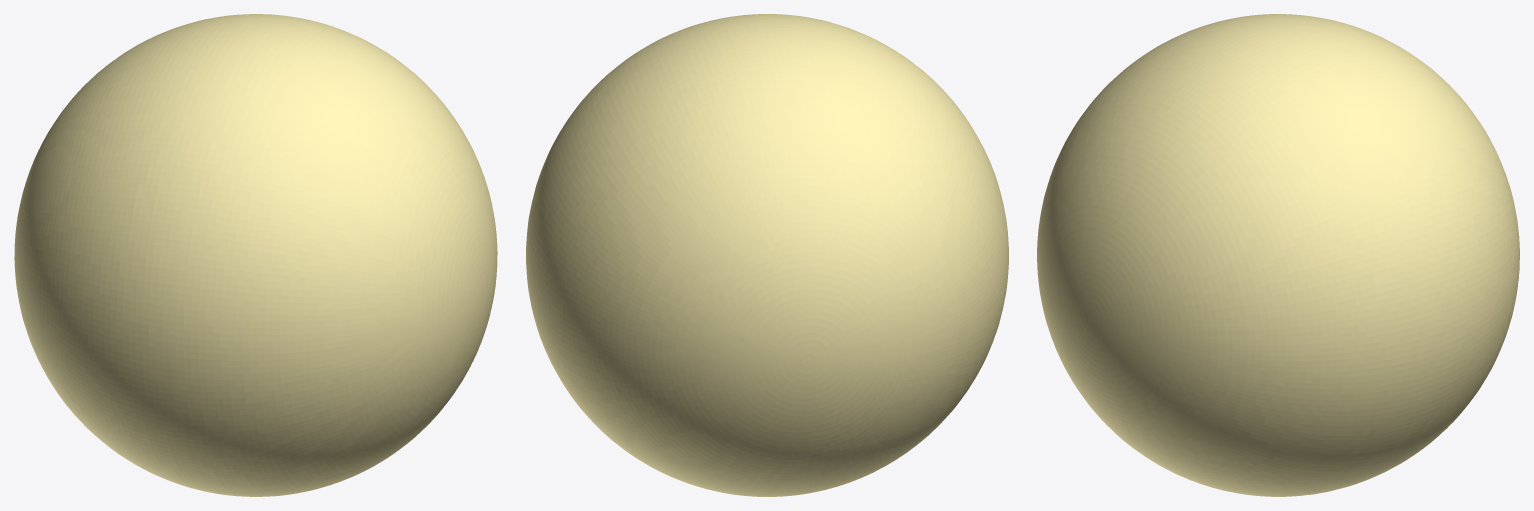
Rendered from DomesBulb.glb.
3 renders of one model, left to right at view 1: azimuth 30°, elevation 25°; view 2: azimuth 150°, elevation 25°; view 3: azimuth 270°, elevation 25°, orthographic.
Visible parts, largest first — view 1: Object003; view 2: Object003; view 3: Object003.
Part boxes in pixels (<box>): Object003: <box>14,14,497,496</box>; Object003: <box>526,14,1008,496</box>; Object003: <box>1037,14,1519,496</box>.
Bounding box in the file's own units: 0.08 × 0.0797 × 0.08.
